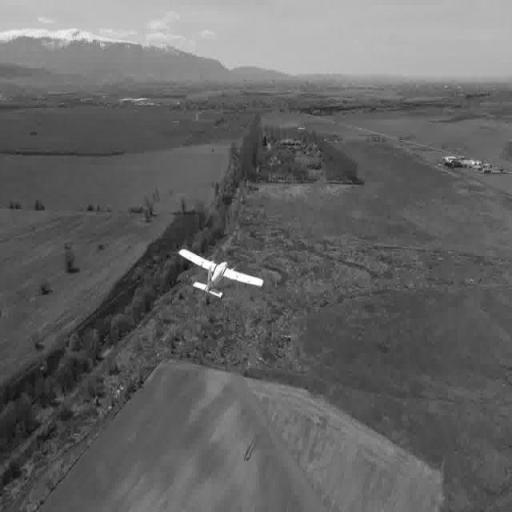uav: (174, 244, 271, 304)
